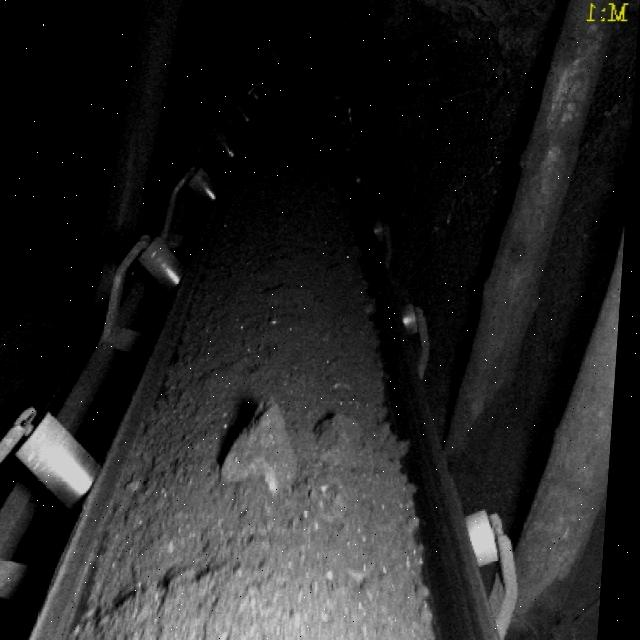large_sized_coal: (221, 395, 309, 490)
